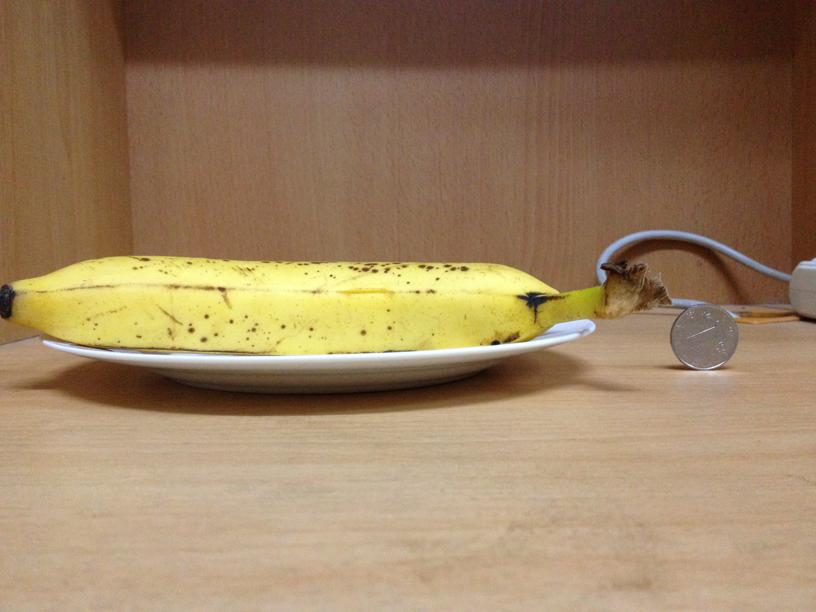banana: (8, 256, 573, 356)
coin: (665, 301, 741, 371)
